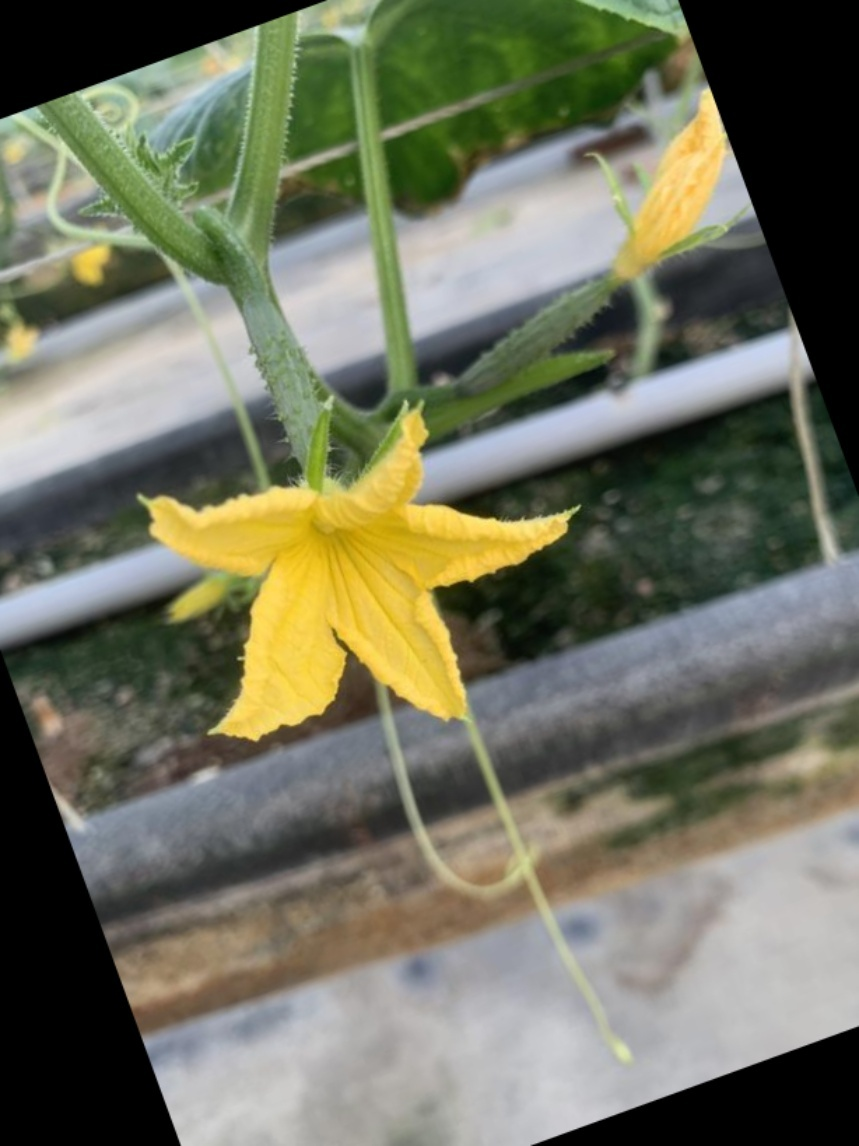flowering: (132, 400, 584, 739)
